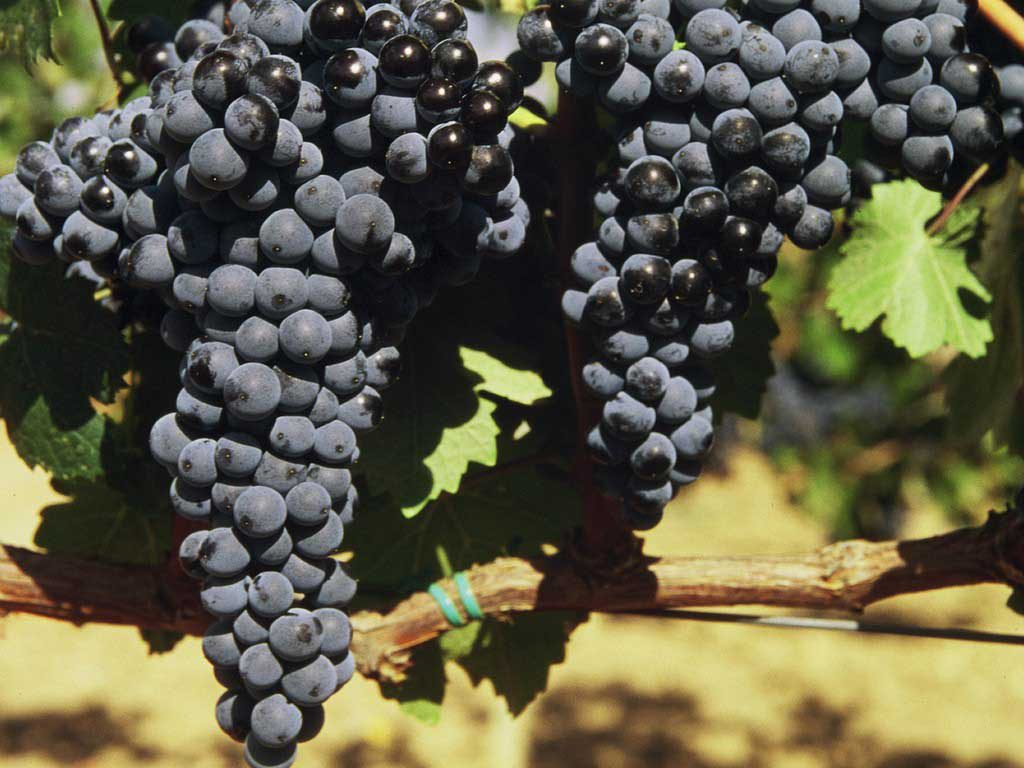Black grapes: (154, 20, 505, 758), (571, 11, 724, 506), (712, 23, 1024, 130), (24, 155, 227, 271)
